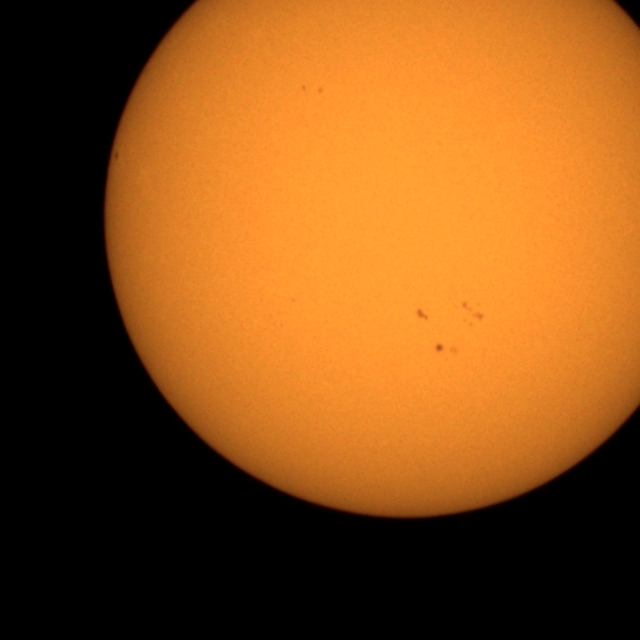sunspot: (460, 300, 484, 328), (434, 342, 458, 356), (300, 83, 325, 96), (415, 308, 430, 322), (434, 342, 445, 354), (315, 85, 325, 95), (113, 151, 120, 163), (300, 83, 308, 93)
